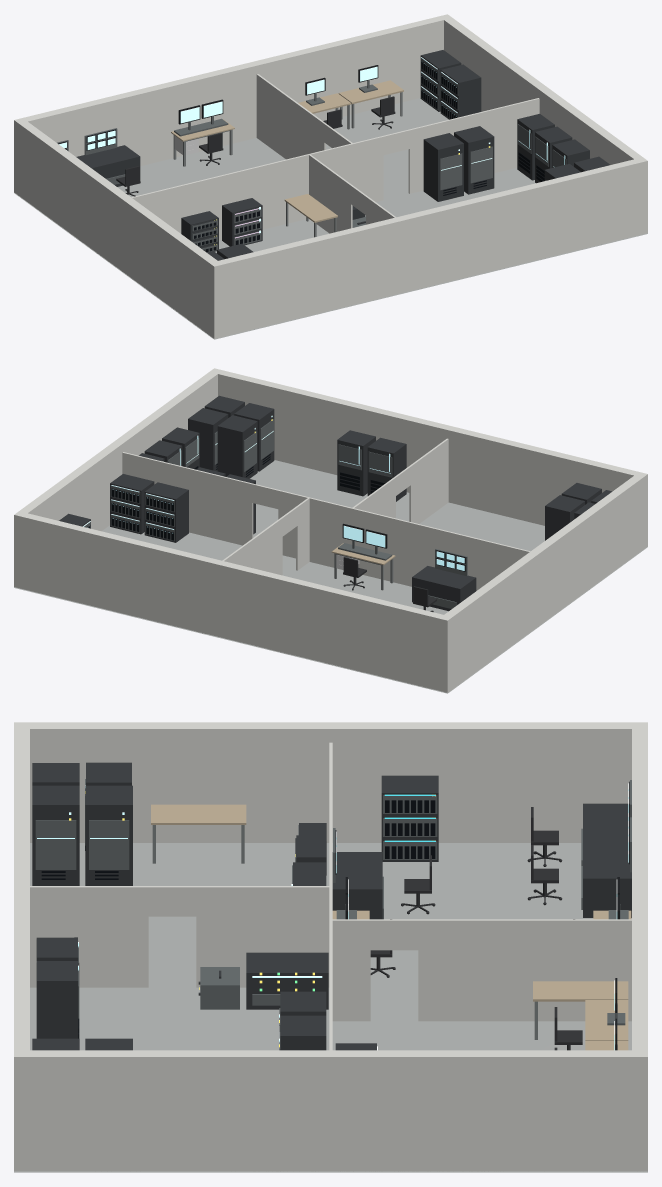
The model's file is SecurityCompany.glb.
The picture shows the model from 3 angles, top to bottom: view 1: azimuth 30°, elevation 25°; view 2: azimuth 150°, elevation 25°; view 3: azimuth 270°, elevation 25°; orthographic projection. The views are drawn at different scales.
Visible parts, largest first — view 1: Wall_Outer_South.001, Wall_Outer_North.001, Wall_Outer_West.001, Wall_Divider_TopBottom.001, Room_Floor.001, Wall_Outer_East.001, Wall_Divider_Workspace_Meeting.001, Wall_Divider_Admin_Server.001, オブジェクト, MA_Body.002, SIEM_Body.002, FT_Body.001 (+10 smaller); view 2: Wall_Outer_North.001, Wall_Outer_South.001, Wall_Outer_West.001, Wall_Divider_TopBottom.001, Room_Floor.001, Wall_Outer_East.001, Wall_Divider_Admin_Server.001, Wall_Divider_Workspace_Meeting.001, MA_Body.004, SIEM_Body.003, MA_Body.005, FT_Body.004 (+11 smaller); view 3: Wall_Outer_East.001, Wall_Outer_West.001, Room_Floor.001, Wall_Divider_Workspace_Meeting.001, Wall_Divider_Admin_Server.001, Wall_Outer_North.001, Wall_Outer_South.001, EDR_Body.001, FT_Body.004, SIEM_Body.002, SIEM_Body.003, MA_Body.007 (+17 smaller).
Part boxes in pixels (left/top/right/bottom): Wall_Outer_South.001: left=209, top=159, right=647, bottom=339; Wall_Outer_North.001: left=14, top=14, right=447, bottom=195; Wall_Outer_West.001: left=14, top=119, right=222, bottom=338; Wall_Divider_TopBottom.001: left=113, top=98, right=539, bottom=264; Room_Floor.001: left=14, top=98, right=647, bottom=339; Wall_Outer_East.001: left=439, top=14, right=647, bottom=234; Wall_Divider_Workspace_Meeting.001: left=256, top=74, right=352, bottom=159; Wall_Divider_Admin_Server.001: left=308, top=154, right=395, bottom=233; オブジェクト: left=423, top=133, right=463, bottom=201; MA_Body.002: left=454, top=126, right=494, bottom=194; SIEM_Body.002: left=77, top=145, right=140, bottom=186; FT_Body.001: left=517, top=113, right=554, bottom=180; Wall_Outer_North.001: left=14, top=513, right=452, bottom=692; Wall_Outer_South.001: left=215, top=368, right=647, bottom=546; Wall_Outer_West.001: left=439, top=473, right=647, bottom=692; Wall_Divider_TopBottom.001: left=122, top=452, right=547, bottom=619; Room_Floor.001: left=14, top=460, right=647, bottom=693; Wall_Outer_East.001: left=14, top=368, right=222, bottom=588; Wall_Divider_Admin_Server.001: left=352, top=438, right=448, bottom=523; Wall_Divider_Workspace_Meeting.001: left=208, top=498, right=309, bottom=633; MA_Body.004: left=217, top=415, right=257, bottom=478; SIEM_Body.003: left=412, top=566, right=476, bottom=611; MA_Body.005: left=188, top=408, right=228, bottom=471; FT_Body.004: left=337, top=430, right=375, bottom=496; Wall_Outer_East.001: left=14, top=1050, right=647, bottom=1171; Wall_Outer_West.001: left=15, top=722, right=647, bottom=842; Room_Floor.001: left=14, top=843, right=647, bottom=1172; Wall_Divider_Workspace_Meeting.001: left=331, top=919, right=631, bottom=1021; Wall_Divider_Admin_Server.001: left=30, top=886, right=331, bottom=987; Wall_Outer_North.001: left=632, top=722, right=647, bottom=1171; Wall_Outer_South.001: left=14, top=722, right=29, bottom=1170; EDR_Body.001: left=246, top=952, right=328, bottom=1009; FT_Body.004: left=36, top=961, right=78, bottom=1038; SIEM_Body.002: left=583, top=841, right=631, bottom=917; SIEM_Body.003: left=332, top=852, right=382, bottom=919; MA_Body.007: left=85, top=785, right=132, bottom=885.
Bounding box in the file's own units: 50 × 8.05 × 40.
